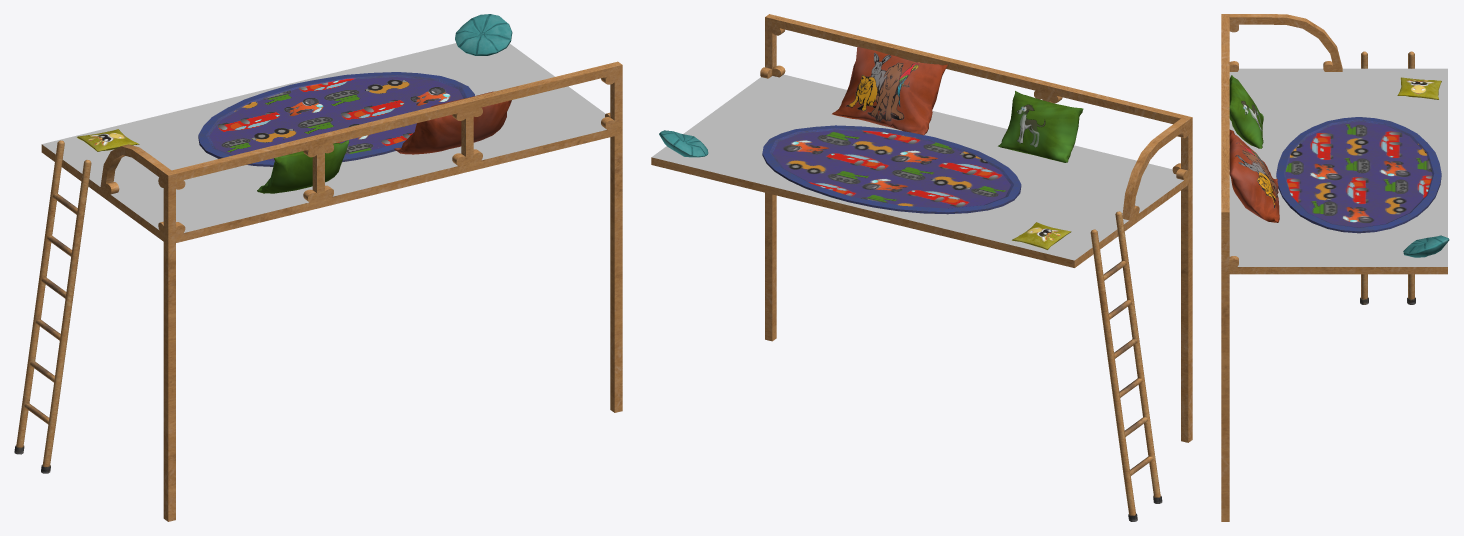
Rendered from soppalcoLetto_furn.fbx.
3 renders of one model, left to right at view 1: azimuth 30°, elevation 25°; view 2: azimuth 150°, elevation 25°; view 3: azimuth 270°, elevation 25°, orthographic. The views are drawn at different scales.
Parts seen in each view (by area): view 1: soppalco; view 2: soppalco; view 3: soppalco.
Part boxes in pixels (x1=…): soppalco: x1=14, y1=14, x2=622, y2=521; soppalco: x1=651, y1=14, x2=1192, y2=521; soppalco: x1=1221, y1=14, x2=1449, y2=521.
Bounding box in the file's own units: 320 × 211 × 141.
